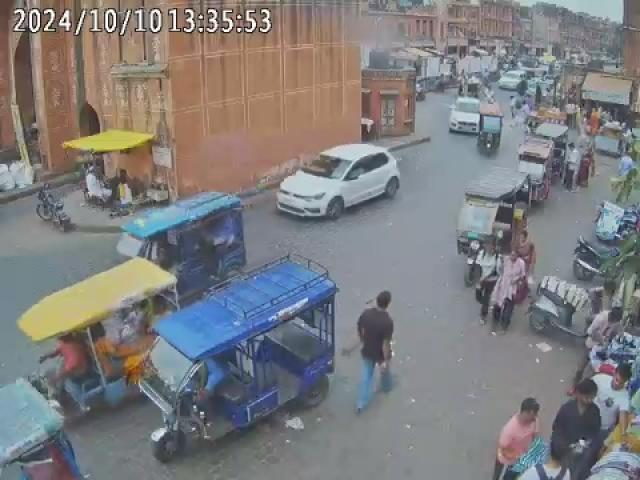auto: (139, 254, 339, 462), (18, 255, 172, 418), (119, 190, 254, 299), (453, 170, 530, 282), (516, 136, 562, 206), (476, 114, 506, 160)
car: (274, 143, 401, 222), (448, 96, 482, 134)
person: (548, 374, 613, 478), (476, 248, 534, 335), (356, 290, 396, 410)
